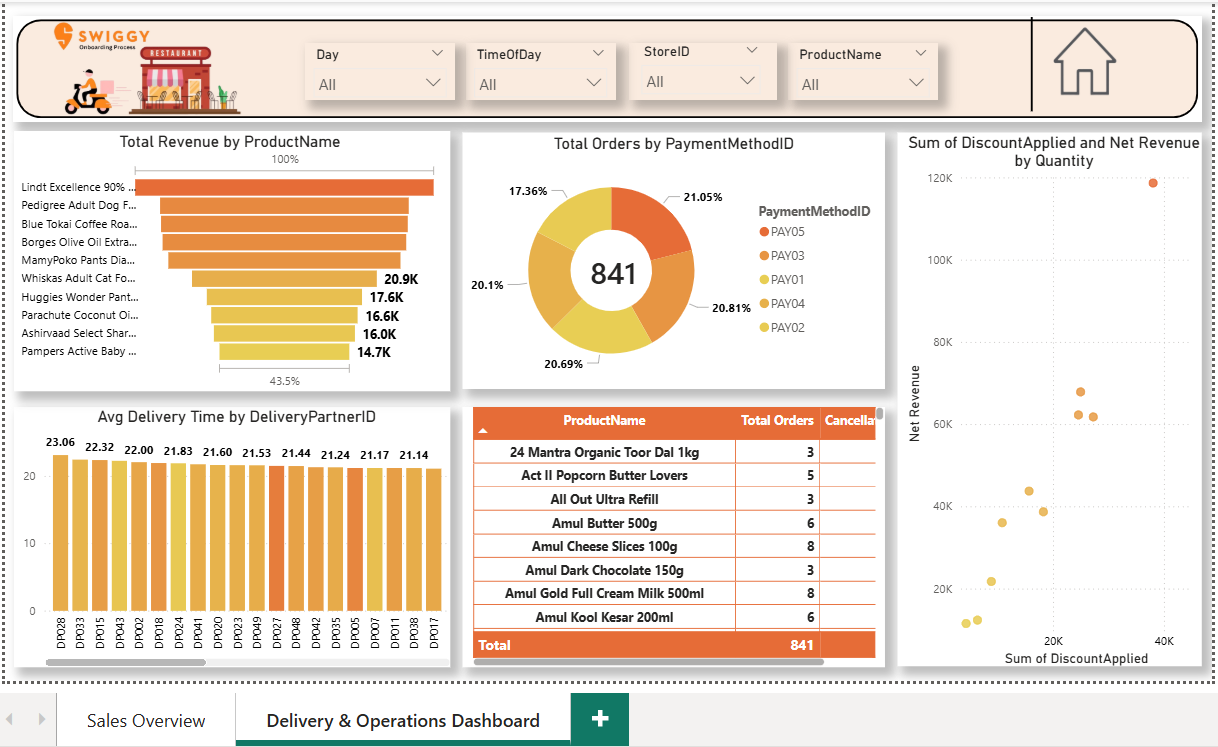

The dashboard page shown, as its layout file describes it:
{"tool":"powerbi","page":{"name":"Delivery & Operations Dashboard","canvas":[1280,720],"ordinal":1},"visuals":[{"type":"shape","box":[8,14.3,1261.4,112.9],"z":0},{"type":"slicer","fields":{"Values":["order_transactions.ProductName"]},"box":[830.6,42.6,159.1,60.4],"z":1000},{"type":"slicer","fields":{"Values":["order_transactions.StoreID"]},"box":[662,42.6,157.5,60.4],"z":2000},{"type":"slicer","fields":{"Values":["order_transactions.TimeOfDay"]},"box":[488.6,42.6,159.1,60.4],"z":3000},{"type":"slicer","fields":{"Values":["order_transactions.DeliveryDate.Variation.Date Hierarchy.Day"]},"box":[317.5,42.6,158.7,60.5],"z":4000},{"type":"clusteredColumnChart","fields":{"Category":["order_transactions.DeliveryPartnerID"],"Y":["order_transactions.Avg Delivery Time"]},"box":[9.4,429,463,275.9],"z":5000},{"type":"funnel","fields":{"Category":["order_transactions.ProductName"],"Y":["order_transactions.Total Revenue"]},"box":[9.4,136.1,463,275.9],"z":6000},{"type":"donutChart","fields":{"Y":["order_transactions.Total Orders"],"Category":["order_transactions.PaymentMethodID"]},"box":[485.7,138,447.9,272.1],"z":7000},{"type":"cardVisual","fields":{"Data":["order_transactions.Total Orders"]},"box":[591.7,230.6,146.3,108.2],"z":8000},{"type":"tableEx","fields":{"Values":["order_transactions.ProductName","order_transactions.Total Orders","order_transactions.Cancellation Rate"]},"box":[485.7,429,447.9,275.9],"z":9000},{"type":"scatterChart","fields":{"Series":["order_transactions.Quantity"],"X":["Sum(order_transactions.DiscountApplied)"],"Y":["order_transactions.Net Revenue"]},"box":[946.4,138.4,322.9,566.3],"z":10000},{"type":"image","box":[0,7.6,300.5,119.1],"z":11000},{"type":"image","box":[1105.5,22.3,163.8,105],"z":12000},{"type":"shape","box":[1046.6,15.9,84.3,100.2],"z":13000}]}

Visuals, with their boxes on the page's 1280x720 design canvas (x1, y1, x2, y2). These are canvas units, not pixel positions in the 1218x747 screenshot, which may show the page scaled, cropped or inside an application window:
shape: region(8, 14, 1269, 127)
slicer - order_transactions.ProductName: region(831, 43, 990, 103)
slicer - order_transactions.StoreID: region(662, 43, 820, 103)
slicer - order_transactions.TimeOfDay: region(489, 43, 648, 103)
slicer - order_transactions.DeliveryDate.Variation.Date Hierarchy.Day: region(318, 43, 476, 103)
clusteredColumnChart - order_transactions.DeliveryPartnerID x order_transactions.Avg Delivery Time: region(9, 429, 472, 705)
funnel - order_transactions.ProductName x order_transactions.Total Revenue: region(9, 136, 472, 412)
donutChart - order_transactions.Total Orders x order_transactions.PaymentMethodID: region(486, 138, 934, 410)
cardVisual - order_transactions.Total Orders: region(592, 231, 738, 339)
tableEx - order_transactions.ProductName x order_transactions.Total Orders: region(486, 429, 934, 705)
scatterChart - order_transactions.Quantity x Sum(order_transactions.DiscountApplied): region(946, 138, 1269, 705)
image: region(0, 8, 300, 127)
image: region(1106, 22, 1269, 127)
shape: region(1047, 16, 1131, 116)
